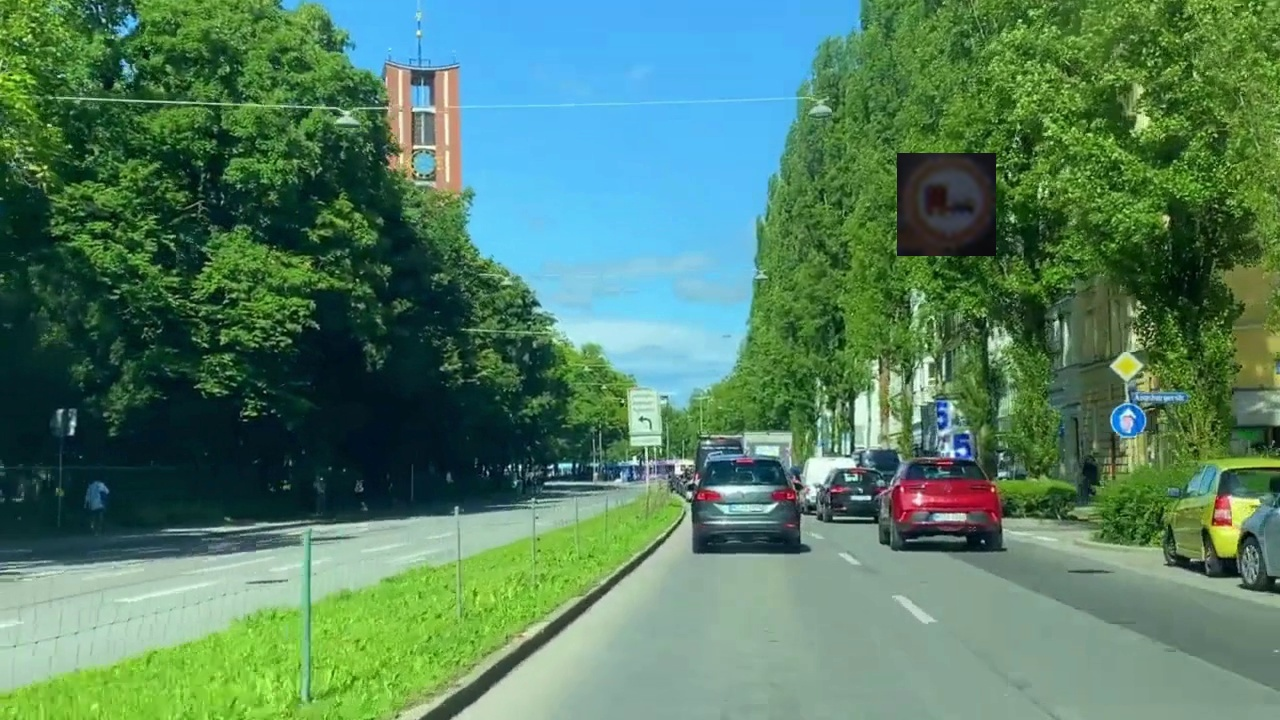No pass >3.5t: (897, 153, 996, 256)
